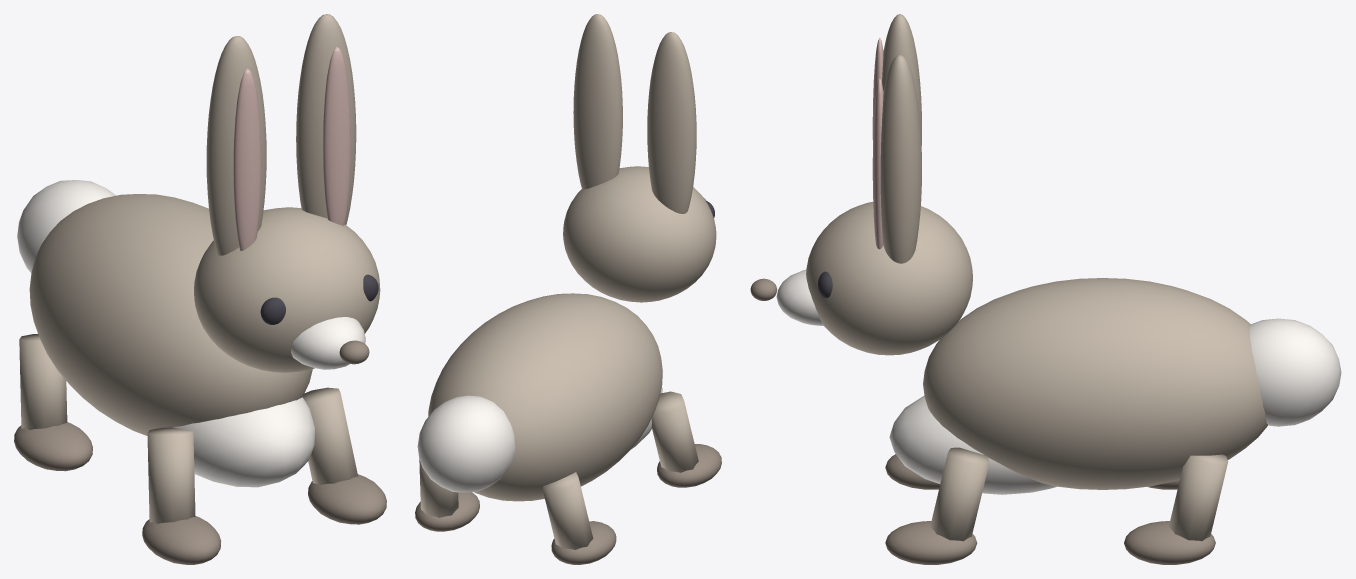
The model's file is rabbit-wild-rabbit.glb.
3 views of the same model, side by side, from view 1: azimuth 30°, elevation 25°; view 2: azimuth 150°, elevation 25°; view 3: azimuth 270°, elevation 25° (orthographic). The views are drawn at different scales.
Visible parts, largest first — view 1: material_8d7b66, material_f1e9df, material_514338, material_b6847d, material_100f13; view 2: material_8d7b66, material_f1e9df, material_514338; view 3: material_8d7b66, material_f1e9df, material_514338, material_b6847d.
Boxes of the visible parts, x1,y1,x2,y2 form: material_8d7b66: (19,14,380,523); material_f1e9df: (17,180,365,487); material_514338: (14,340,386,564); material_b6847d: (233,47,350,250); material_100f13: (260,274,378,324); material_8d7b66: (419,14,716,549); material_f1e9df: (417,387,662,492); material_514338: (415,197,721,564); material_8d7b66: (806,14,1267,541); material_f1e9df: (776,269,1341,494); material_514338: (750,278,1215,564); material_b6847d: (872,37,883,249).
Size of the model in its own units: 0.5856 by 1.29 by 1.41.
